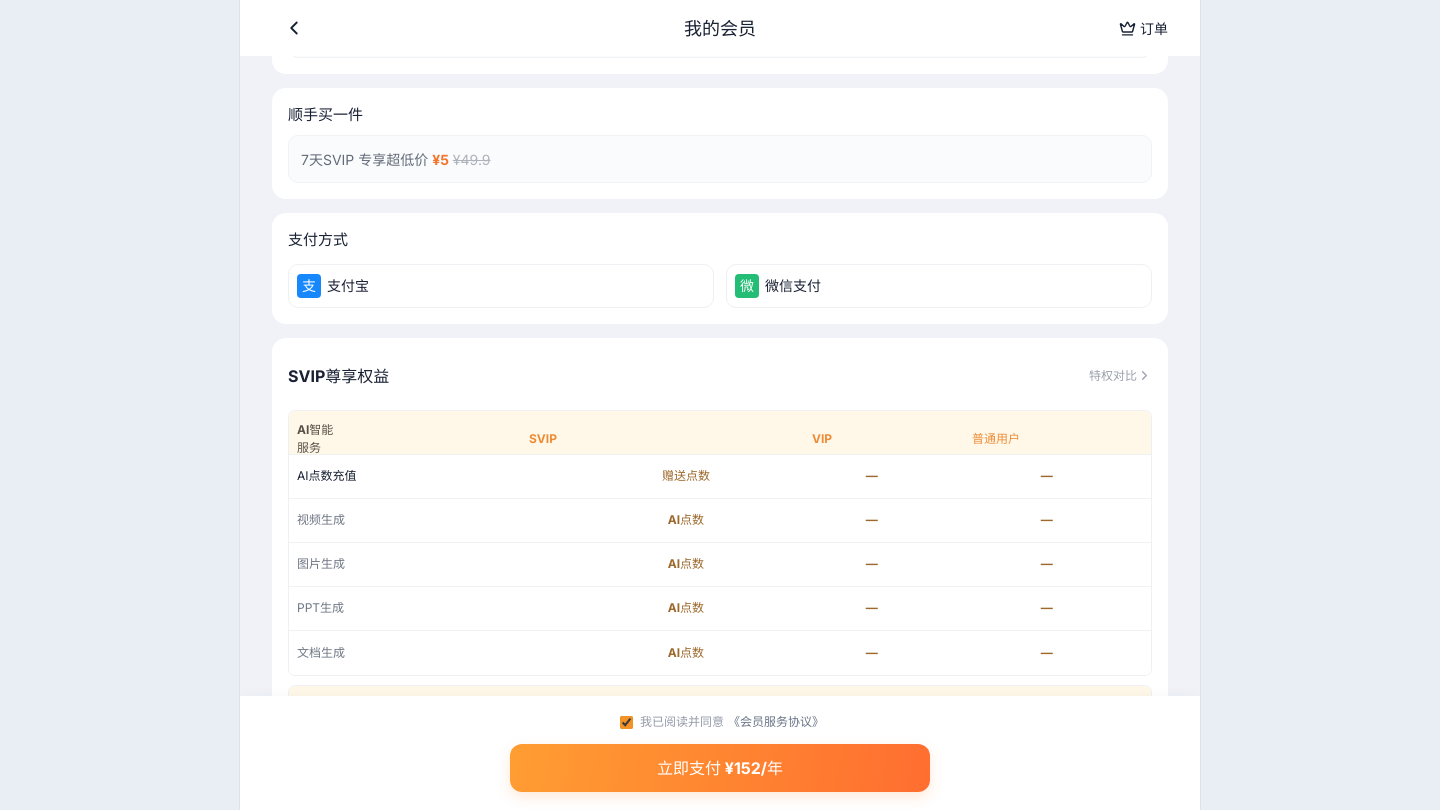
Test: mobile membership page › labels the unavailable privilege comparison
This screenshot has width=1440, height=810.
(page scrolled)
Click the button "特权对比" at (1120, 376), box 1089,354 -> 1152,398
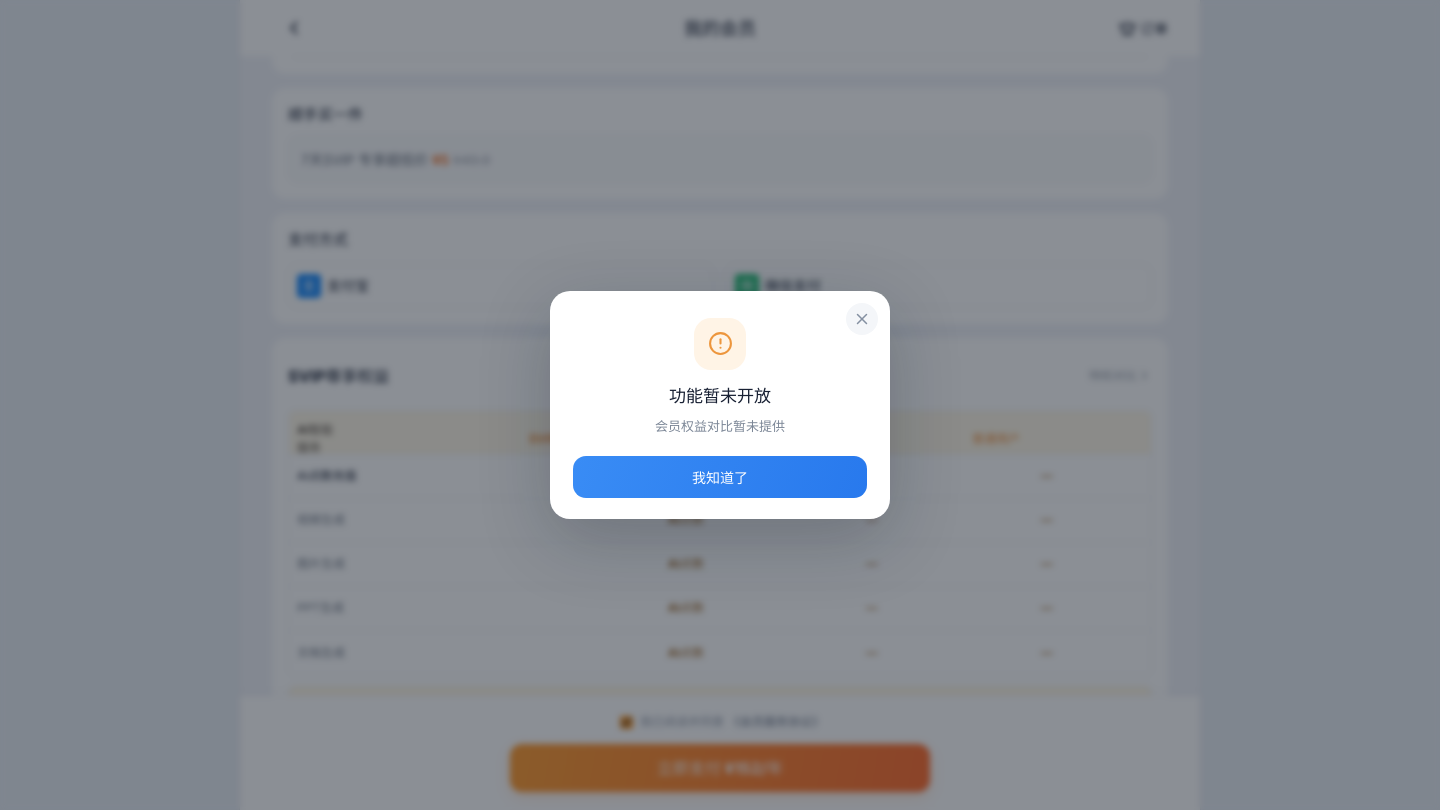
Result: the dialog with class "unavailable-dialog" shows "会员权益对比暂未提供" at 655,418 -> 785,434
